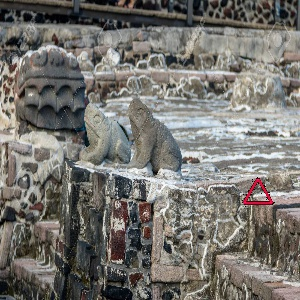triangle: (240, 174, 275, 207)
